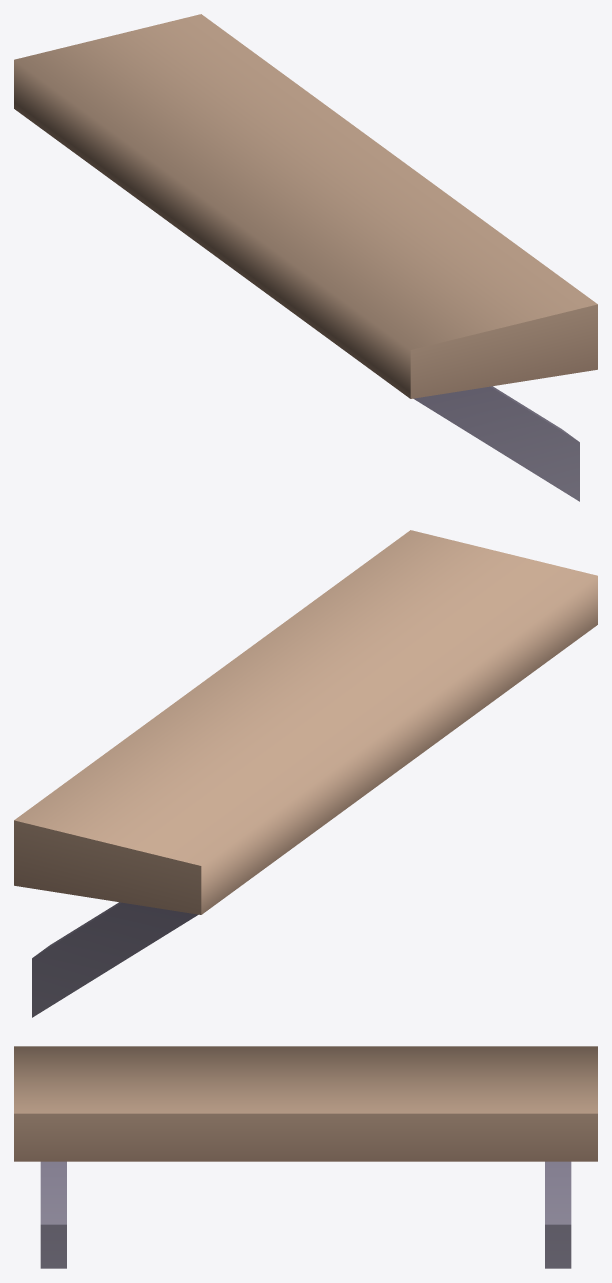
The model's file is shelf-support-long (%wall)_0.glb.
3 renders of one model, top to bottom at view 1: azimuth 30°, elevation 25°; view 2: azimuth 150°, elevation 25°; view 3: azimuth 270°, elevation 25°, orthographic. The views are drawn at different scales.
Visible parts, largest first — view 1: shelf-support-long (%wall); view 2: shelf-support-long (%wall); view 3: shelf-support-long (%wall).
Boxes of the visible parts, left/top/right/bottom form: shelf-support-long (%wall): left=14, top=14, right=597, bottom=501; shelf-support-long (%wall): left=14, top=530, right=597, bottom=1017; shelf-support-long (%wall): left=14, top=1046, right=597, bottom=1268.
Bounding box in the file's own units: 0.3 × 0.3225 × 1.1.
